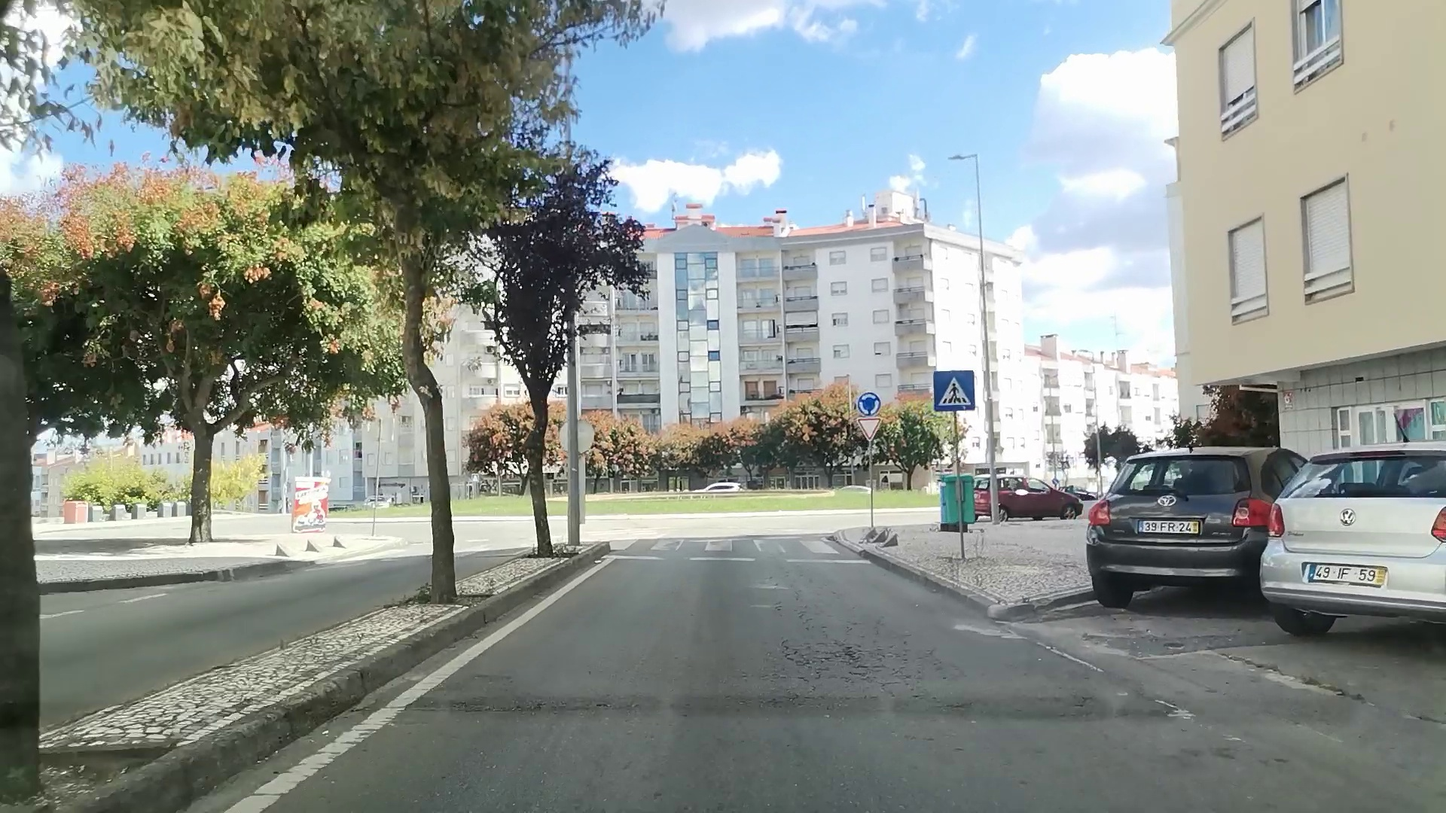Stairs: (611, 536, 841, 555)
